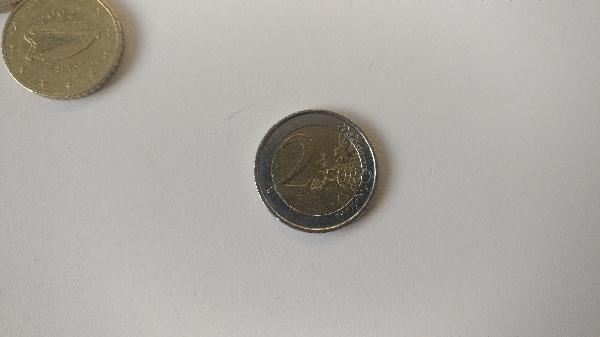Fifty Cent: (4, 1, 132, 103)
Two Euro: (248, 107, 390, 235)
